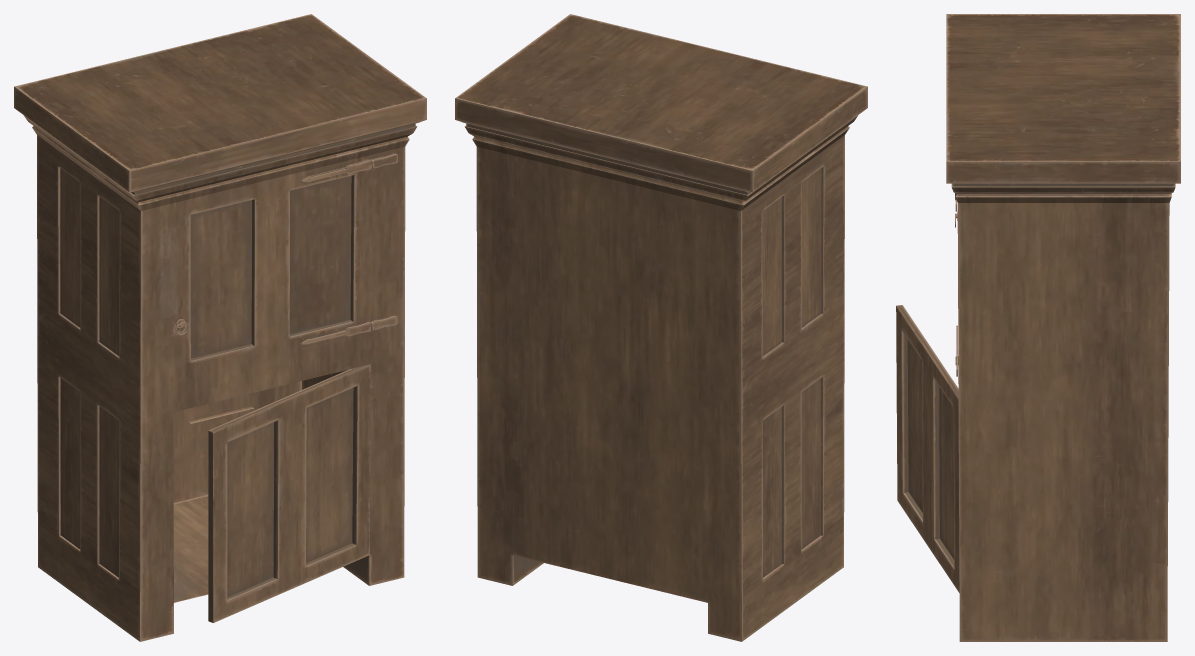
Rendered from Furn_Table.glb.
3 renders of one model, left to right at view 1: azimuth 30°, elevation 25°; view 2: azimuth 150°, elevation 25°; view 3: azimuth 270°, elevation 25°, orthographic.
Parts seen in each view (by area): view 1: Furn_Table; view 2: Furn_Table; view 3: Furn_Table.
Part boxes in pixels (x1,y1,x2,y2): Furn_Table: [14, 14, 426, 641]; Furn_Table: [455, 14, 867, 641]; Furn_Table: [896, 14, 1180, 641].
Size of the model in its own units: 0.6738 by 1.04 by 0.5491.
1 material, 1 textured.
